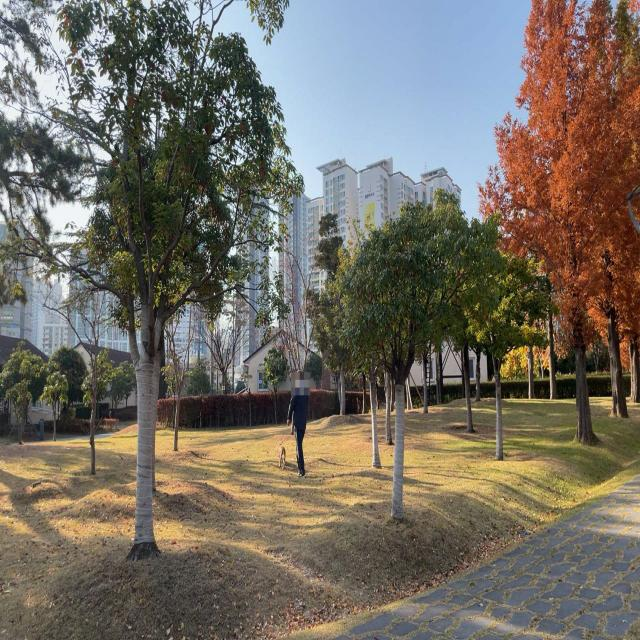Leashed_Dog: (276, 426, 299, 471)
